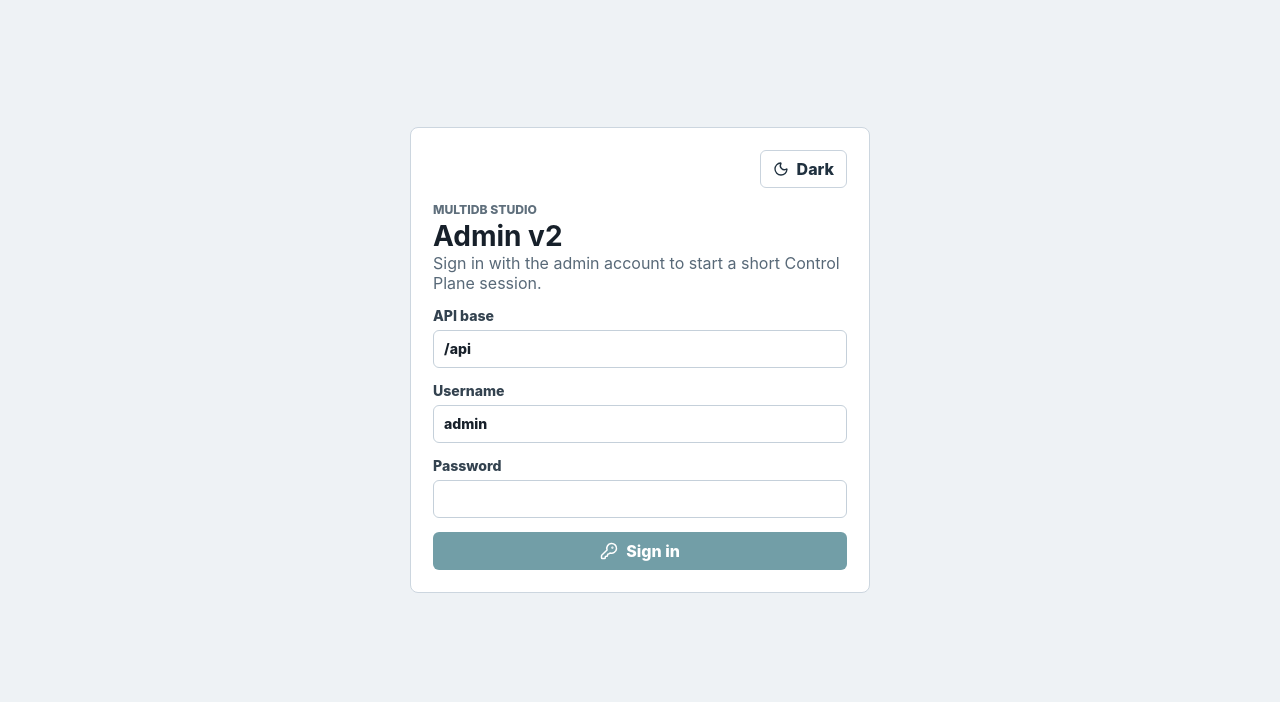
Test case: App › clears the session on 401 session expiry
The width and height of the screenshot is (1280, 702).
Step 1. Type "secret" into the password field labelled "Password" → coordinates (640, 499), box 433,480 -> 847,518
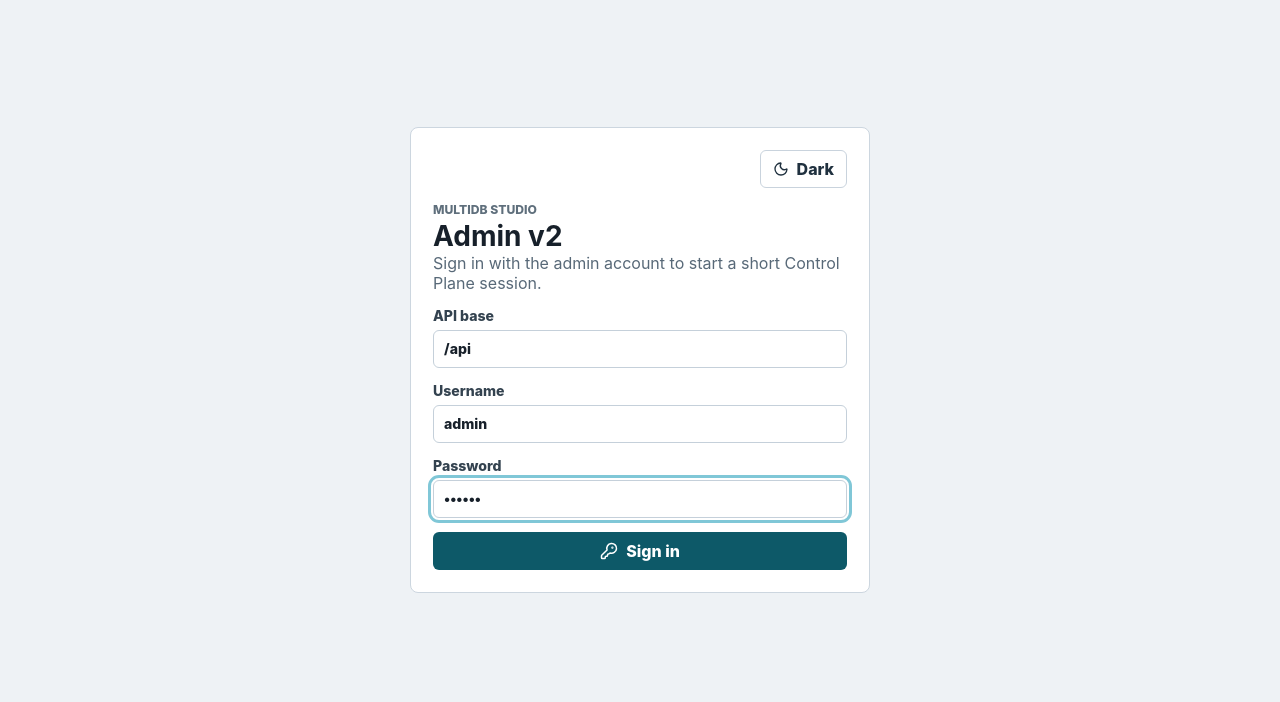
Step 2. Click the button "Sign in" → coordinates (640, 551), box 433,532 -> 847,570
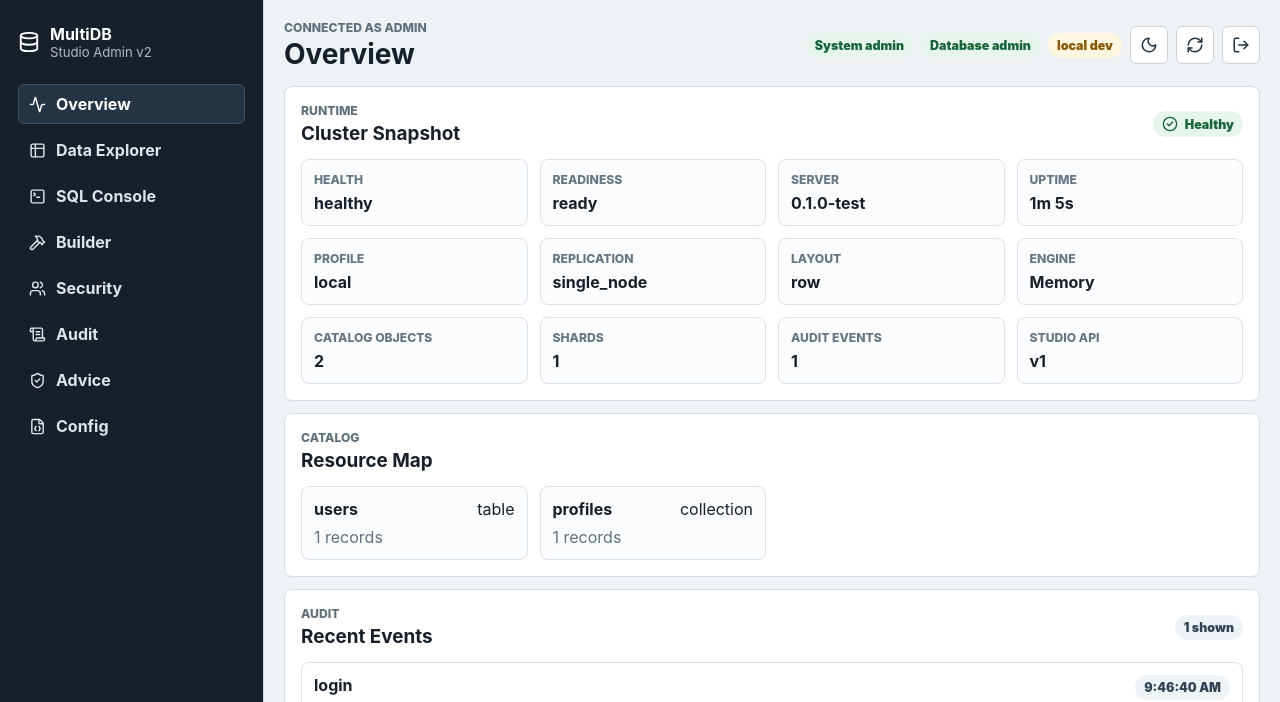
Result: the text "0.1.0-test" is shown at 791,193 -> 865,213
Step 3. Click the button named "refresh" → coordinates (1195, 45), box 1176,26 -> 1214,64
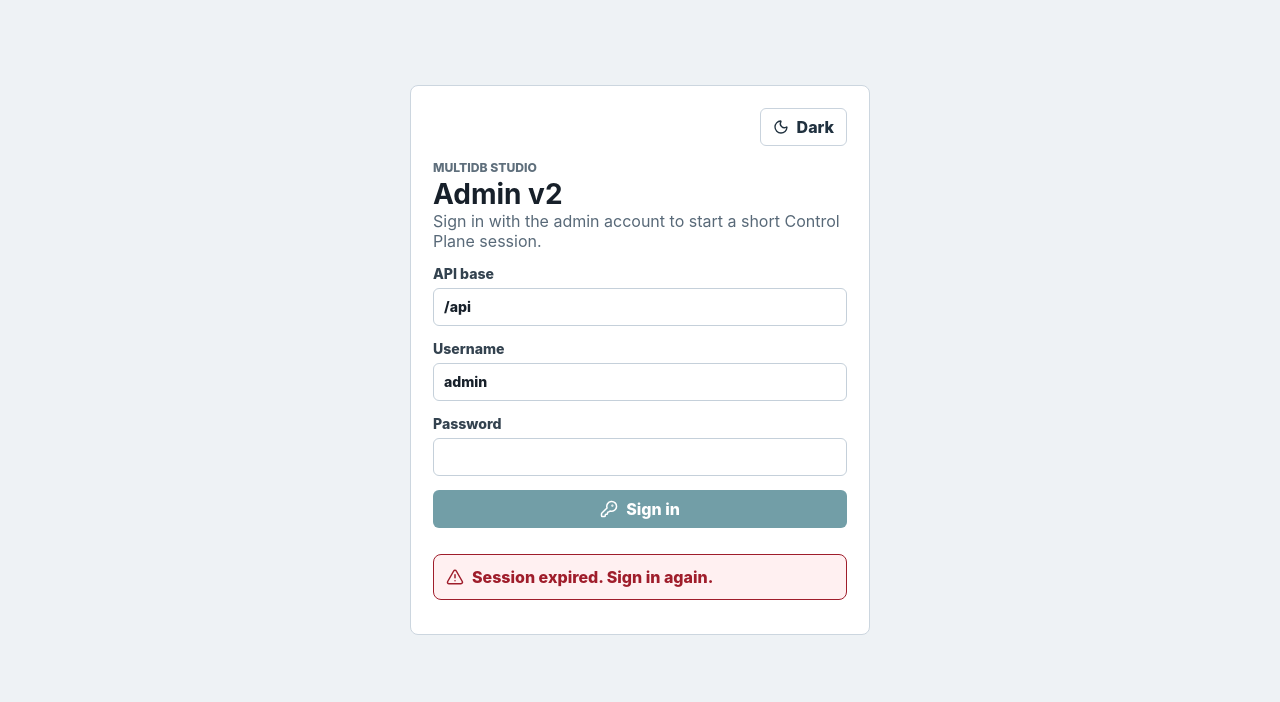
Result: the text "Session expired. Sign in again." is shown at 472,567 -> 713,587
Result: the button "Sign in" is shown at 433,490 -> 847,528
